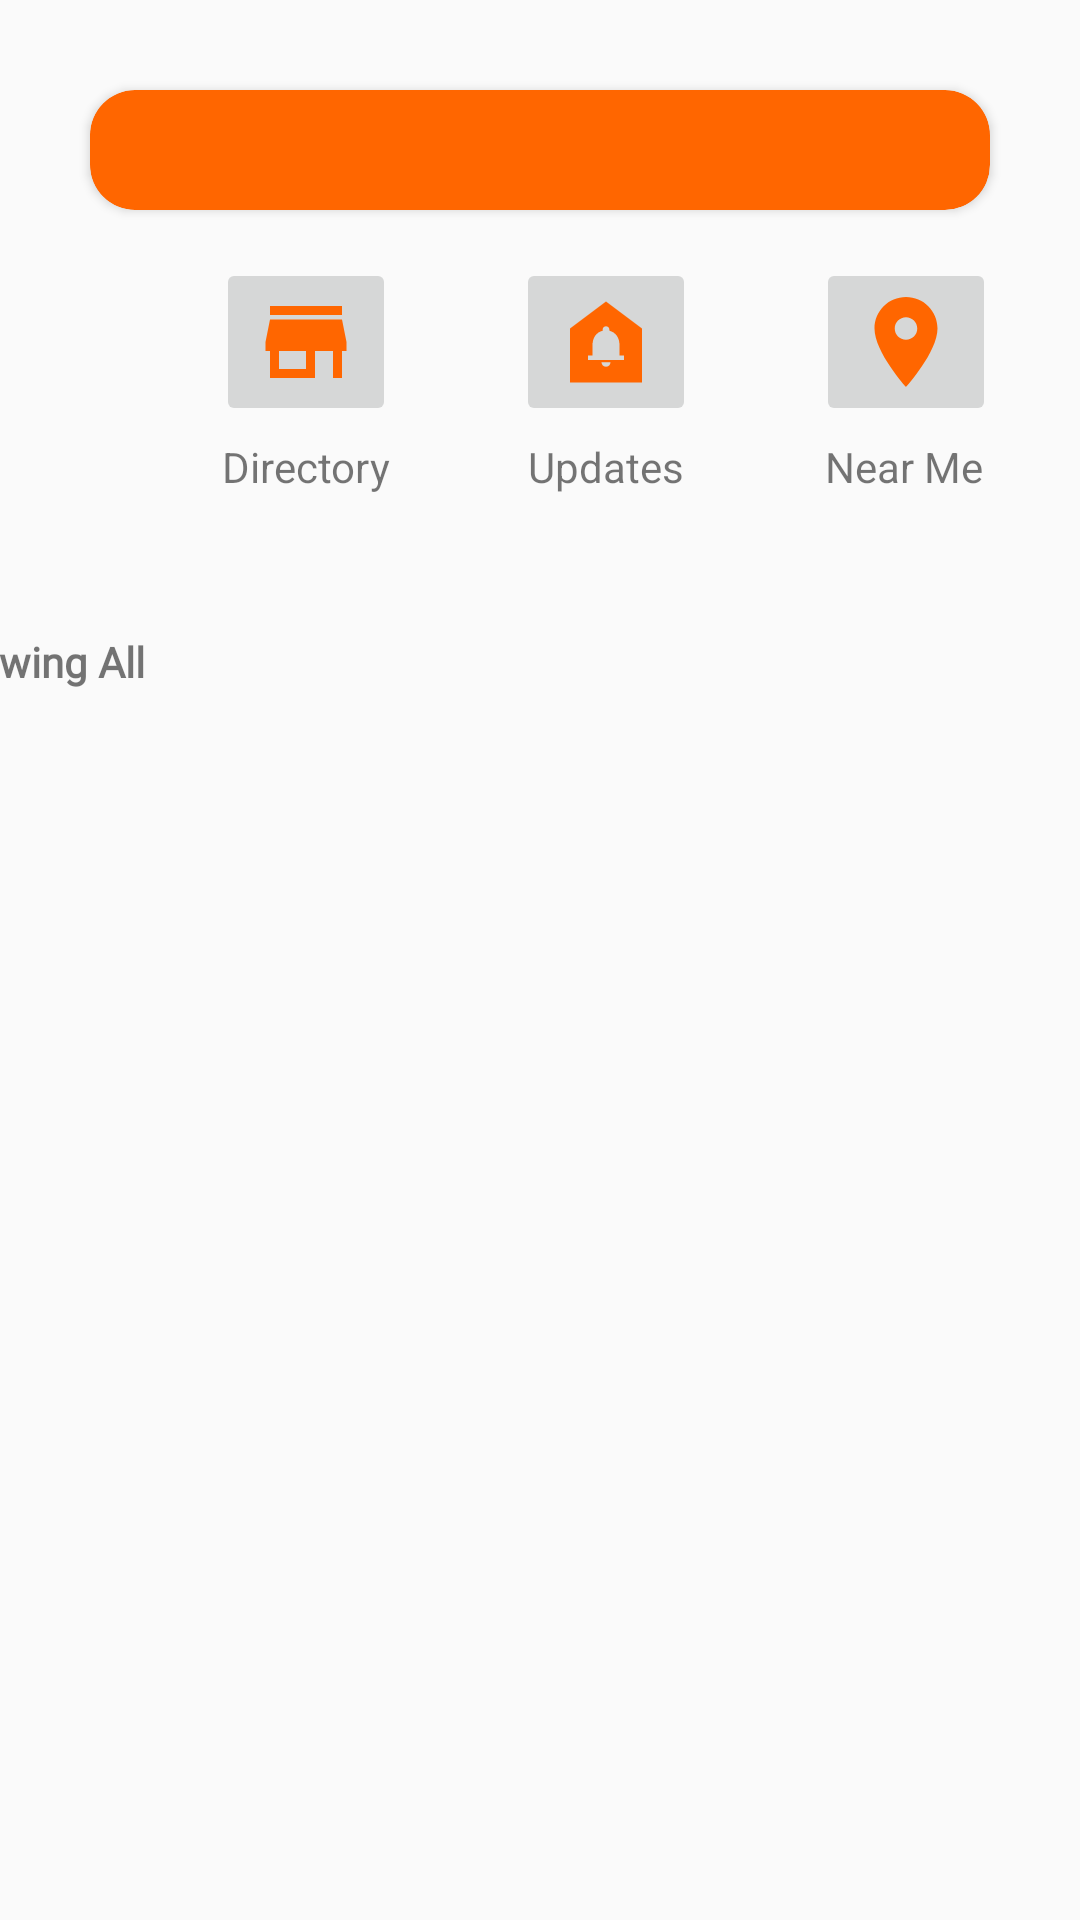

Named icons in this screenshot (1080x1920) and their bounding boxes, (x1, y1, x2, y2):
location on: (828, 276, 984, 408)
